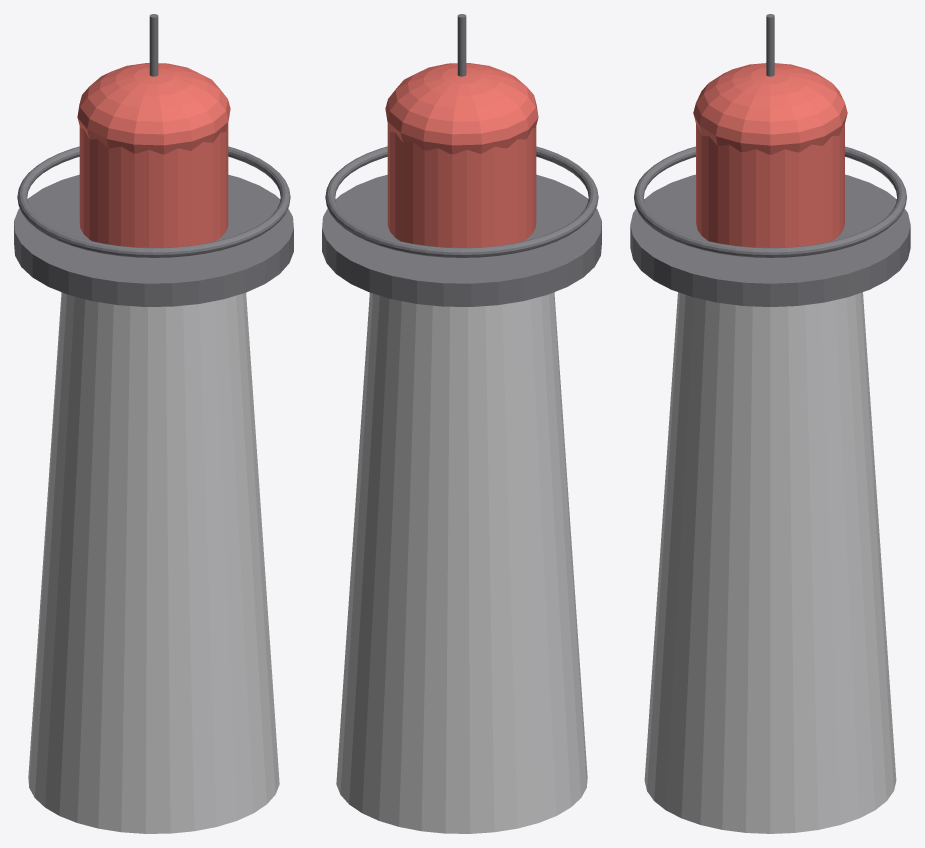
Rendered from nogita_lighthouse.glb.
The picture shows the model from 3 angles, left to right: view 1: azimuth 30°, elevation 25°; view 2: azimuth 150°, elevation 25°; view 3: azimuth 270°, elevation 25°; orthographic projection.
Parts seen in each view (by area): view 1: NogitaLighthouse3D; view 2: NogitaLighthouse3D; view 3: NogitaLighthouse3D.
Part boxes in pixels (x1,y1,x2,y2): NogitaLighthouse3D: (14,14,293,833); NogitaLighthouse3D: (322,14,601,833); NogitaLighthouse3D: (630,14,910,833).
Size of the model in its own units: 1.96 by 5.9 by 1.96.
